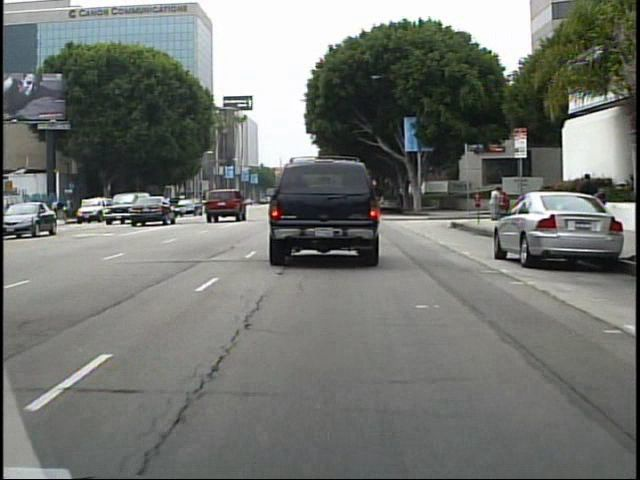person: (575, 169, 599, 233), (487, 185, 500, 220)
